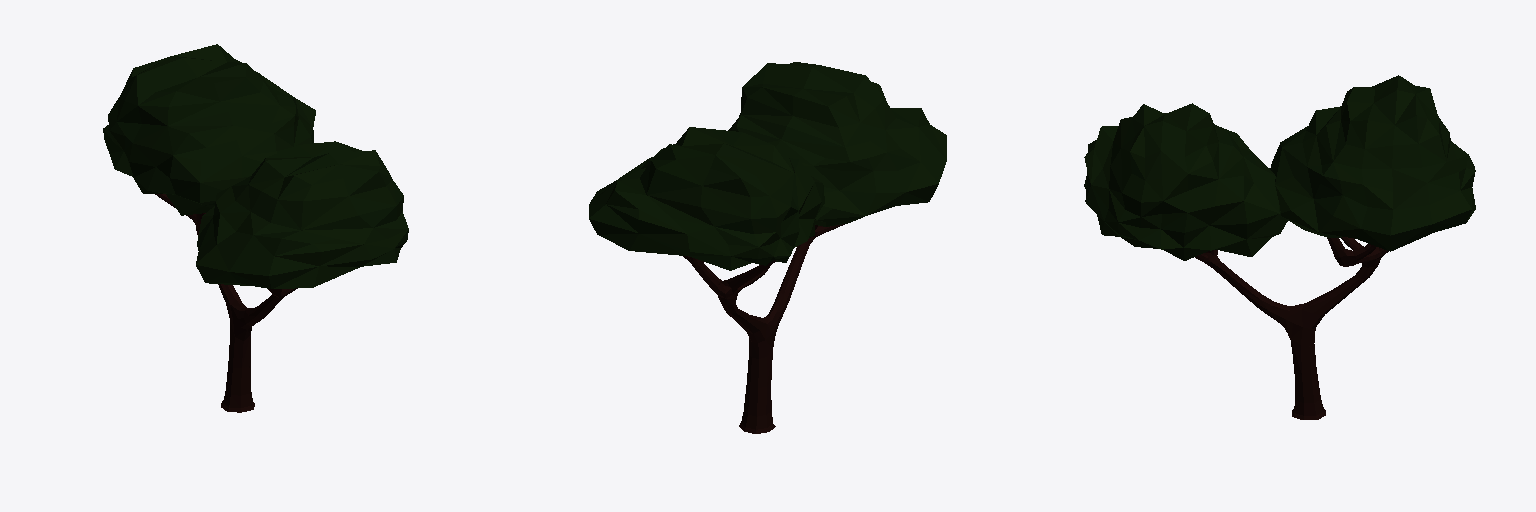
File: CommonTree_1.obj
3 renders of one model, left to right at view 1: azimuth 30°, elevation 25°; view 2: azimuth 150°, elevation 25°; view 3: azimuth 270°, elevation 25°, orthographic.
Visible parts, largest first — view 1: CommonTree_1_Cube.049; view 2: CommonTree_1_Cube.049; view 3: CommonTree_1_Cube.049.
Part boxes in pixels (x1,y1,x2,y2): CommonTree_1_Cube.049: (103, 44, 408, 412); CommonTree_1_Cube.049: (589, 62, 946, 433); CommonTree_1_Cube.049: (1084, 75, 1475, 419).
Bounding box in the file's own units: 1.89 × 2.48 × 2.77.